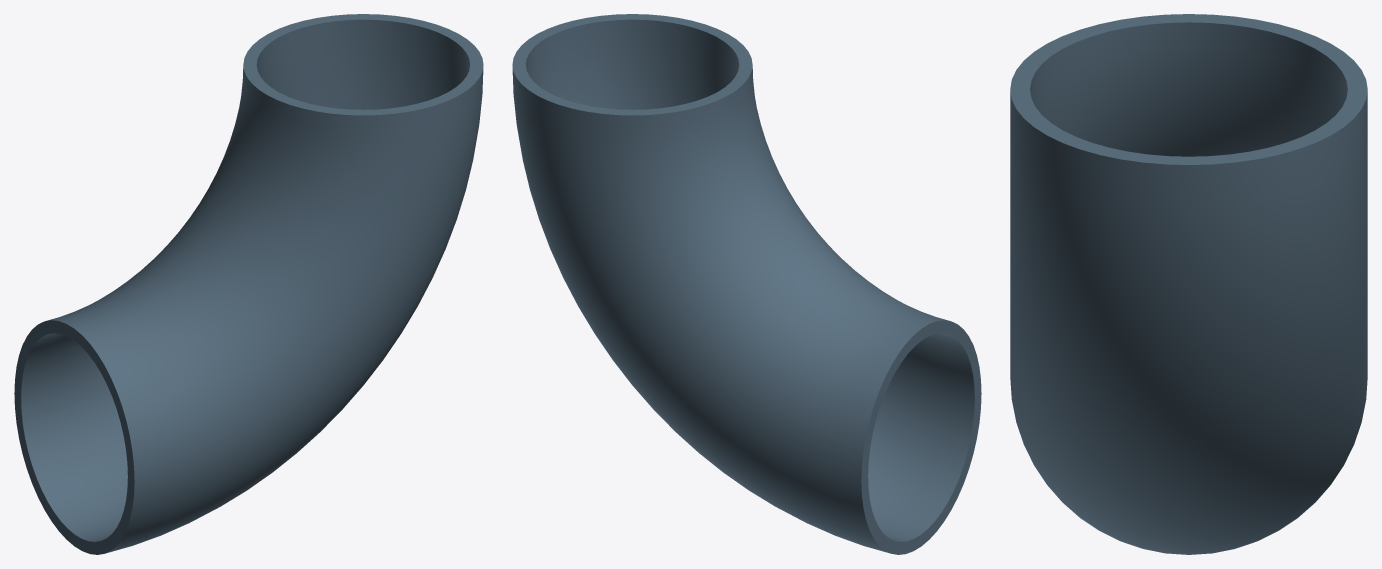
The model's file is otvod-90-108x6-R150.glb.
3 views of the same model, side by side, from view 1: azimuth 30°, elevation 25°; view 2: azimuth 150°, elevation 25°; view 3: azimuth 270°, elevation 25° (orthographic). The views are drawn at different scales.
Parts seen in each view (by area): view 1: Open CASCADE STEP translator 7.9 39; view 2: Open CASCADE STEP translator 7.9 39; view 3: Open CASCADE STEP translator 7.9 39.
Boxes of the visible parts, x1,y1,x2,y2 form: Open CASCADE STEP translator 7.9 39: (14, 14, 483, 554); Open CASCADE STEP translator 7.9 39: (512, 14, 981, 554); Open CASCADE STEP translator 7.9 39: (1010, 14, 1367, 554).
Bounding box in the file's own units: 204 × 204 × 108.
